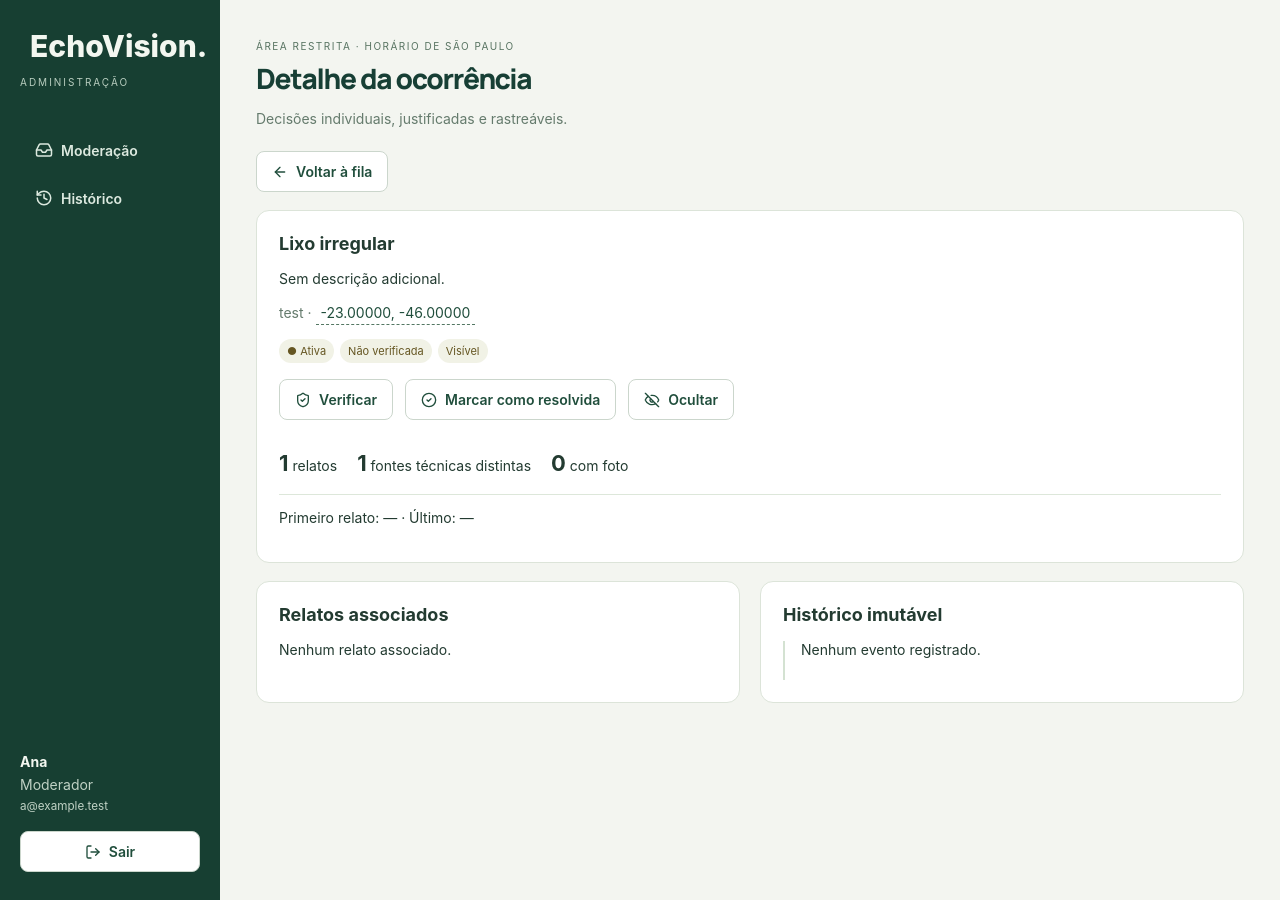
Scenario: moderador vê fila mas não gestão de contas; modal exige justificativa
The image size is (1280, 900).
Expected: the heading "Lixo irregular" is shown, [279, 233, 395, 254]
Step 1. Click the button "Marcar como resolvida" → (511, 400), box [405, 379, 616, 420]
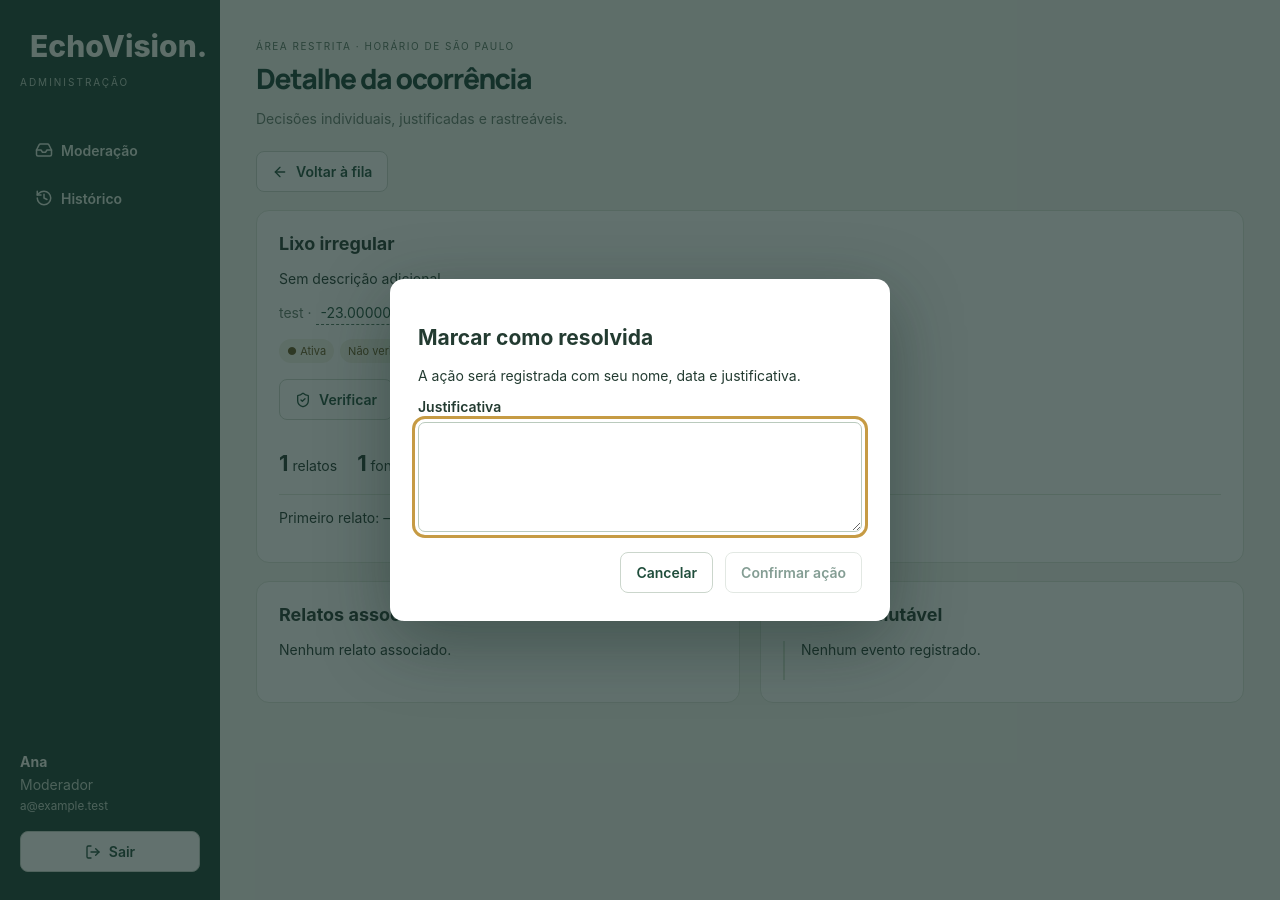
Now the button "Confirmar ação" is disabled, box [725, 552, 862, 593]
Step 2. Type "Manutenção concluída" into the text box labelled "Justificativa" → (640, 477), box [418, 422, 862, 532]
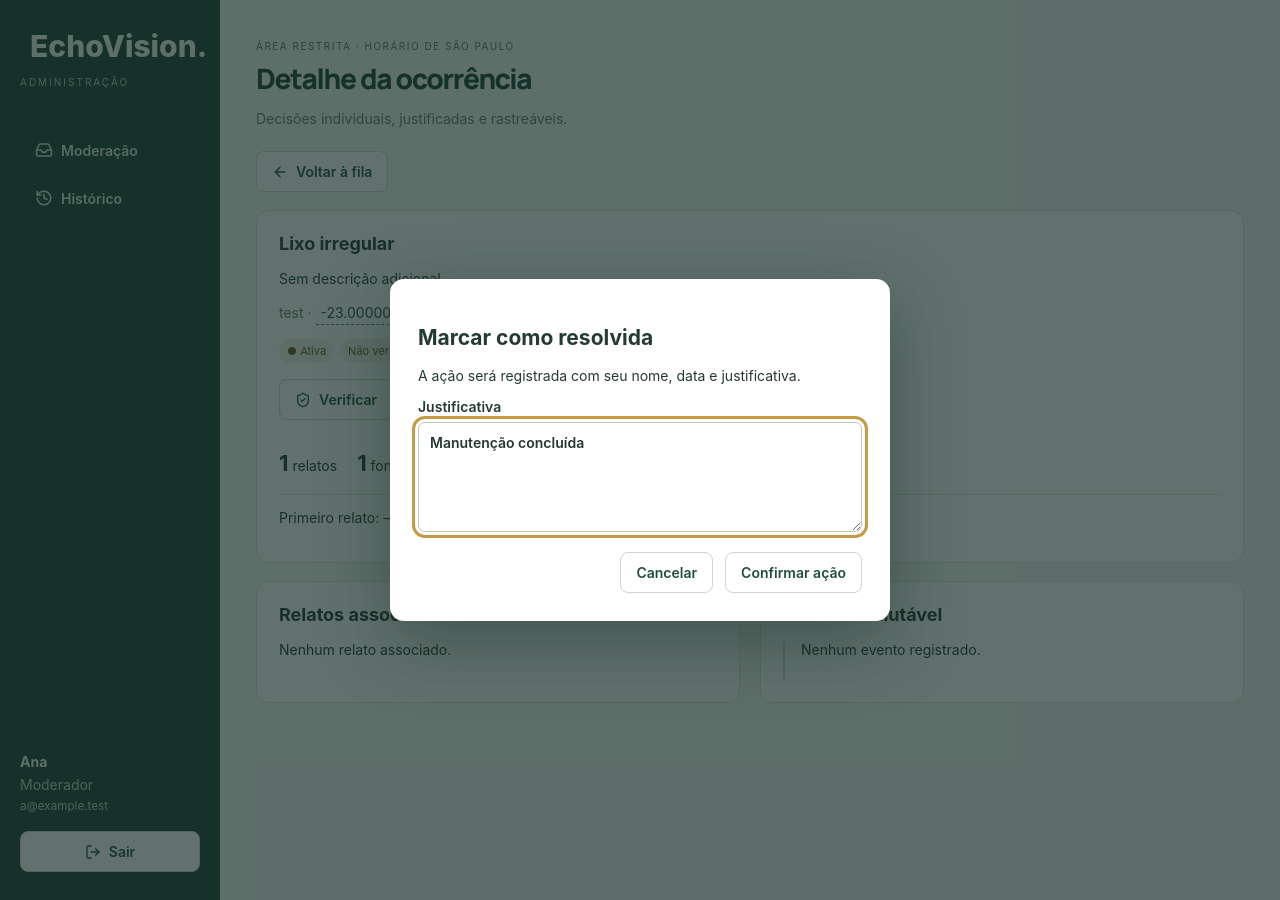
Now the button "Confirmar ação" is enabled, box [725, 552, 862, 593]
